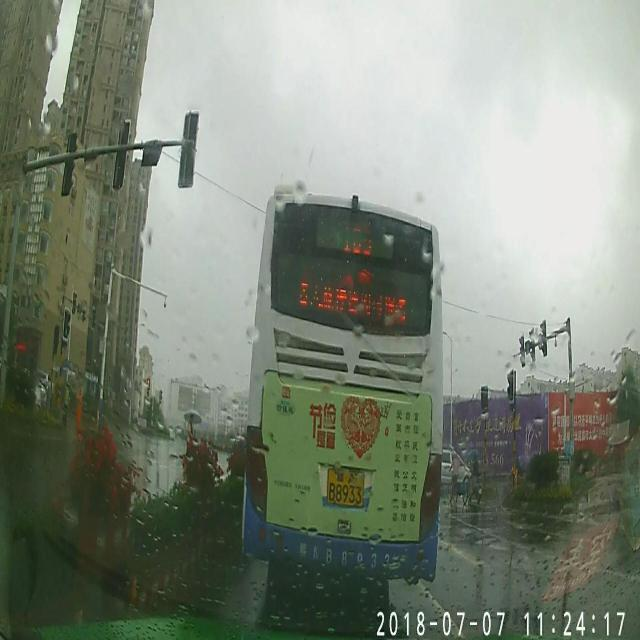car: (442, 446, 476, 483)
